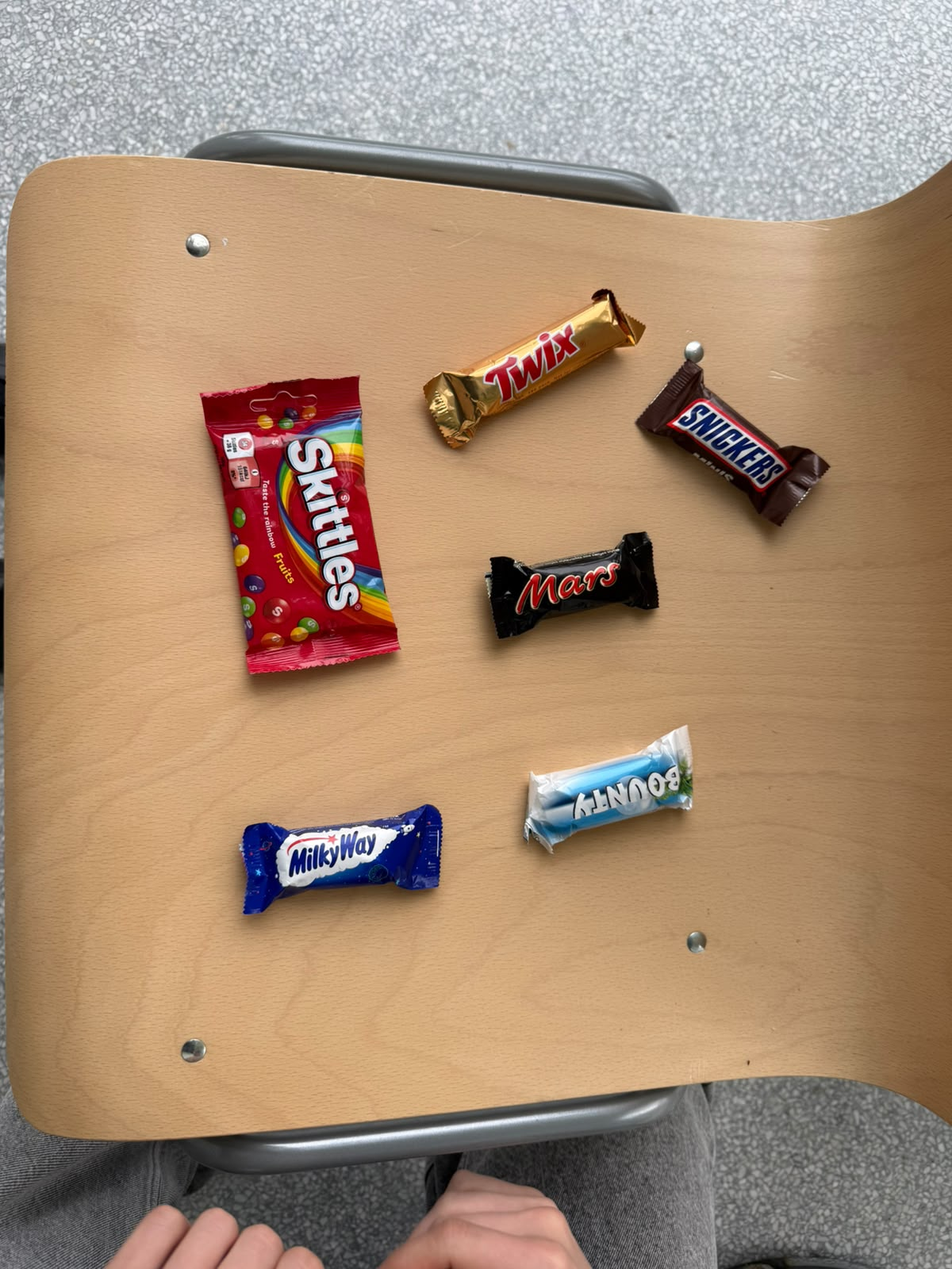Bounty: (482, 778, 735, 885)
Mars: (460, 555, 686, 663)
MilkyWay: (224, 811, 447, 927)
Skittles: (168, 390, 383, 707)
Snickers: (607, 421, 739, 636)
Twix: (395, 386, 655, 479)
